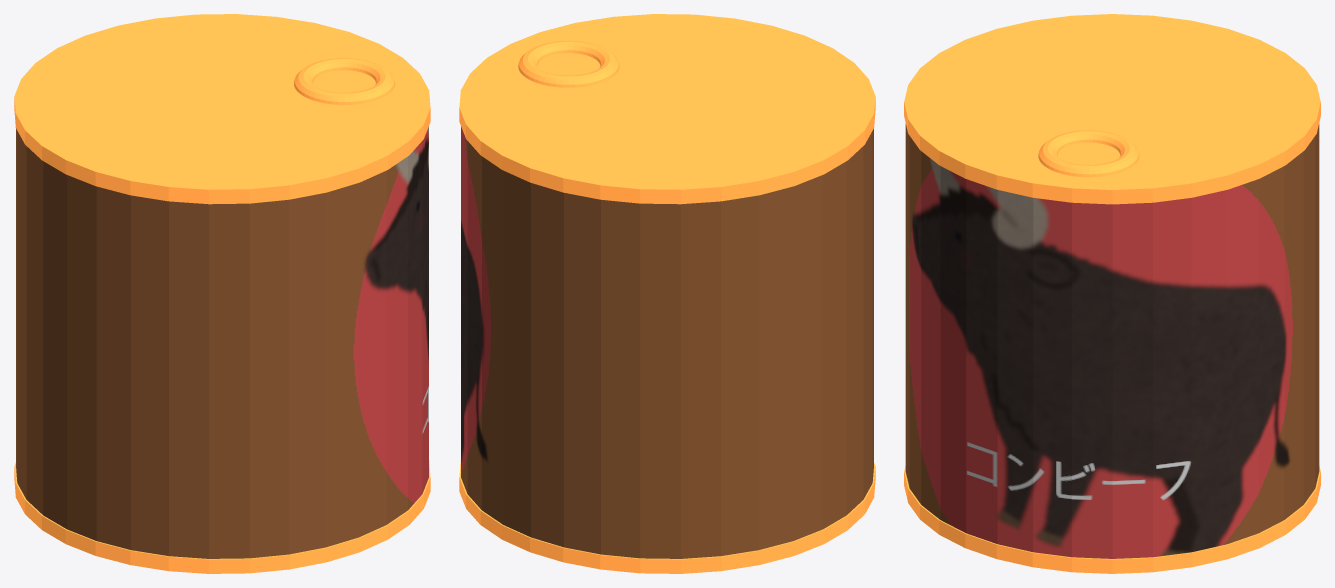
File: kan_blond.fbx
3 views of the same model, side by side, from view 1: azimuth 30°, elevation 25°; view 2: azimuth 150°, elevation 25°; view 3: azimuth 270°, elevation 25° (orthographic).
Visible parts, largest first — view 1: Cylinder, Cylinder.001, Cylinder.002, Torus; view 2: Cylinder, Cylinder.001, Cylinder.002, Torus; view 3: Cylinder, Cylinder.001, Cylinder.002, Torus.
Boxes of the visible parts, <box> form: Cylinder: <box>16,126,428,558</box>; Cylinder.001: <box>14,14,430,204</box>; Cylinder.002: <box>14,460,430,573</box>; Torus: <box>294,58,395,104</box>; Cylinder: <box>461,126,873,558</box>; Cylinder.001: <box>459,14,875,204</box>; Cylinder.002: <box>459,460,875,573</box>; Torus: <box>518,40,619,87</box>; Cylinder: <box>905,124,1319,558</box>; Cylinder.001: <box>904,14,1320,204</box>; Cylinder.002: <box>904,466,1320,573</box>; Torus: <box>1038,130,1139,177</box>.
Bounding box in the file's own units: 201 × 209 × 201.
2 materials, 1 textured.
